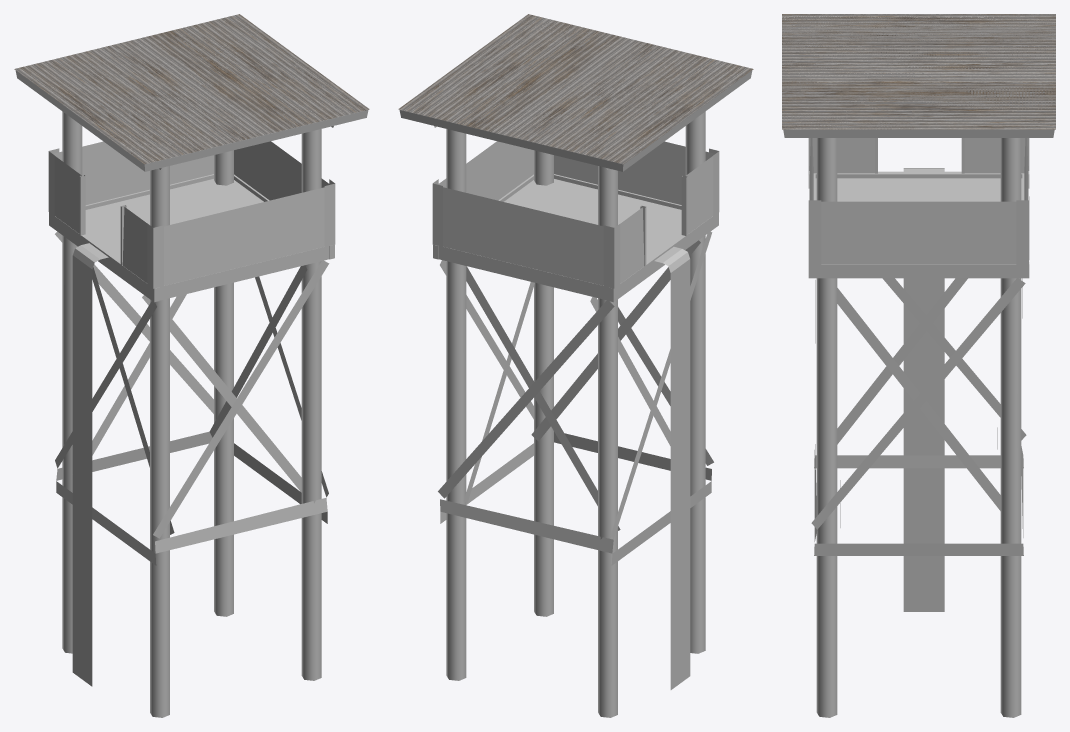
Rendered from phys_guard_tower1.fbx.
The picture shows the model from 3 angles, left to right: view 1: azimuth 30°, elevation 25°; view 2: azimuth 150°, elevation 25°; view 3: azimuth 270°, elevation 25°; orthographic projection. The views are drawn at different scales.
Visible parts, largest first — view 1: polySurface734; view 2: polySurface734; view 3: polySurface734.
Part boxes in pixels (x1,y1,x2,y2): polySurface734: (14, 14, 369, 717); polySurface734: (398, 14, 753, 717); polySurface734: (782, 14, 1055, 717).
Bounding box in the file's own units: 5.17 × 12.56 × 5.17.
